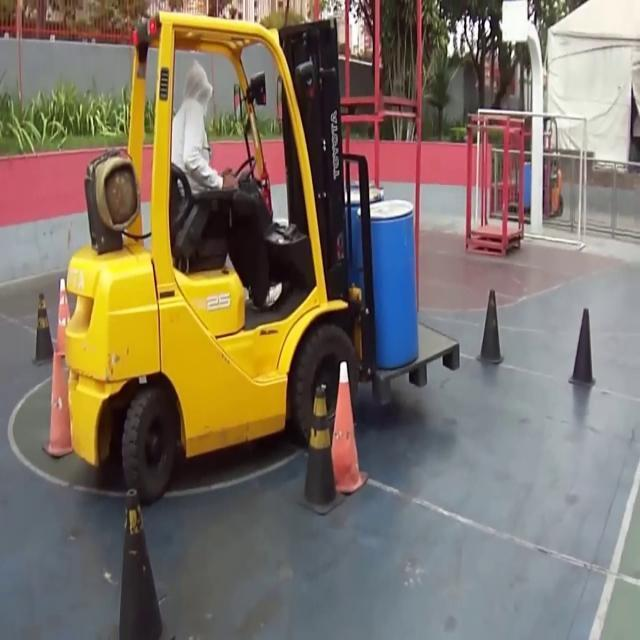forklift: (50, 4, 386, 516)
